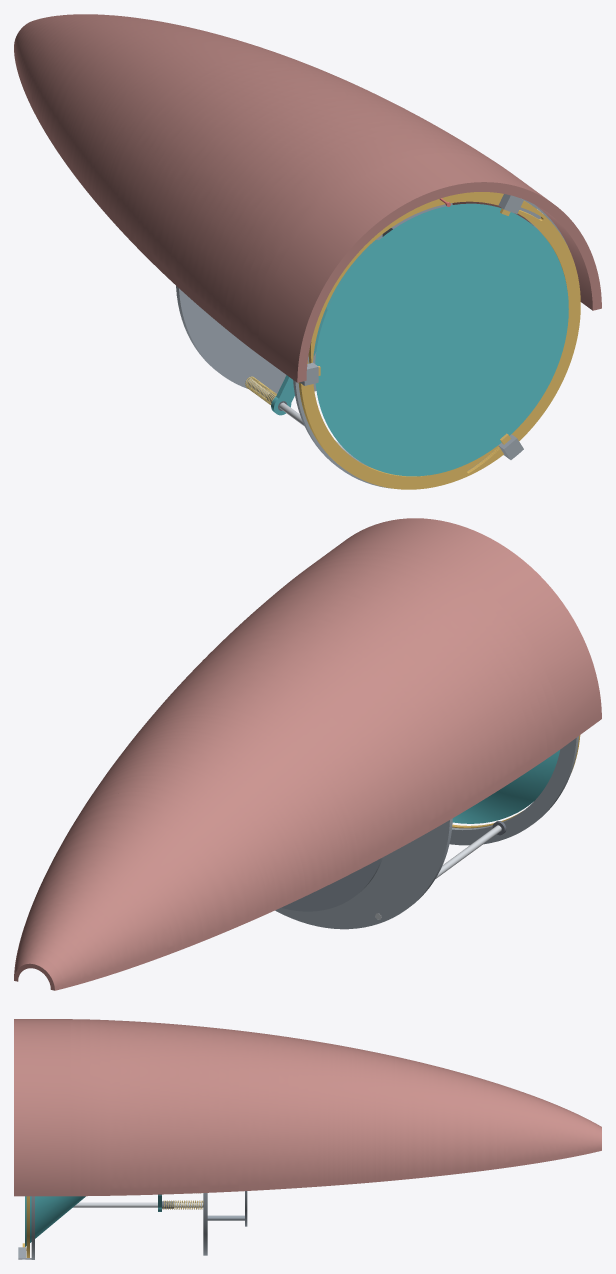
File: speed-cad.glb
3 views of the same model, one above another, from view 1: azimuth 30°, elevation 25°; view 2: azimuth 150°, elevation 25°; view 3: azimuth 270°, elevation 25° (orthographic). The views are drawn at different scales.
Parts seen in each view (by area): view 1: part-27, part-28, part-19, part-0, part-15, part-10; view 2: part-27, part-0, part-28, part-15, part-26, part-7; view 3: part-27, part-28, part-7, part-15, part-26.
Boxes of the visible parts, <box> form: part-27: <box>14,14,601,382</box>; part-28: <box>315,203,568,476</box>; part-19: <box>298,192,580,489</box>; part-0: <box>176,203,452,393</box>; part-15: <box>293,194,568,488</box>; part-10: <box>271,307,327,415</box>; part-27: <box>14,518,601,990</box>; part-0: <box>275,818,452,929</box>; part-28: <box>452,750,559,823</box>; part-15: <box>449,736,578,845</box>; part-26: <box>281,857,382,911</box>; part-7: <box>375,825,501,919</box>; part-27: <box>14,1019,601,1196</box>; part-28: <box>25,1196,85,1246</box>; part-7: <box>73,1202,203,1207</box>; part-15: <box>18,1196,34,1259</box>; part-26: <box>207,1191,247,1226</box>.
Size of the model in its own units: 0.3 by 0.29 by 0.7083.
